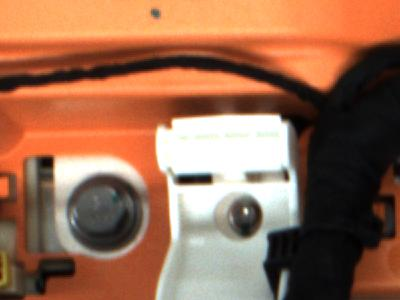nut_b: (62, 169, 146, 249)
